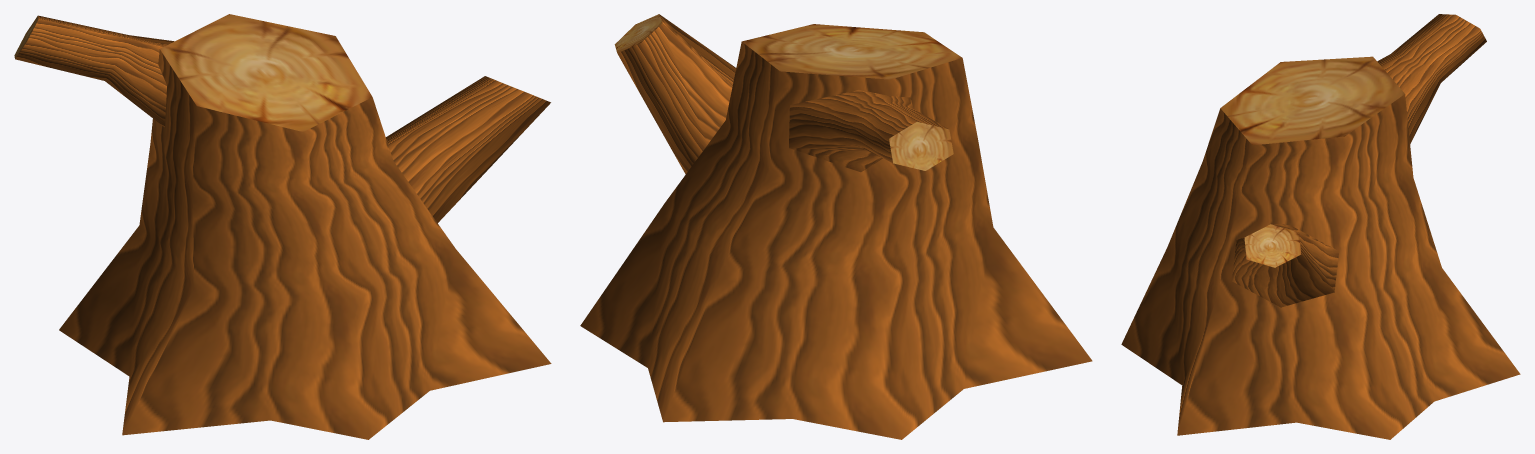
Rendered from Tree03.FBX.
3 views of the same model, side by side, from view 1: azimuth 30°, elevation 25°; view 2: azimuth 150°, elevation 25°; view 3: azimuth 270°, elevation 25° (orthographic). The views are drawn at different scales.
Visible parts, largest first — view 1: Tree03; view 2: Tree03; view 3: Tree03.
Part boxes in pixels (box(x1,y1,x2,y2)): Tree03: box(14, 14, 551, 439); Tree03: box(580, 14, 1092, 439); Tree03: box(1121, 14, 1520, 439).
Size of the model in its own units: 14.56 by 9.93 by 13.23.
